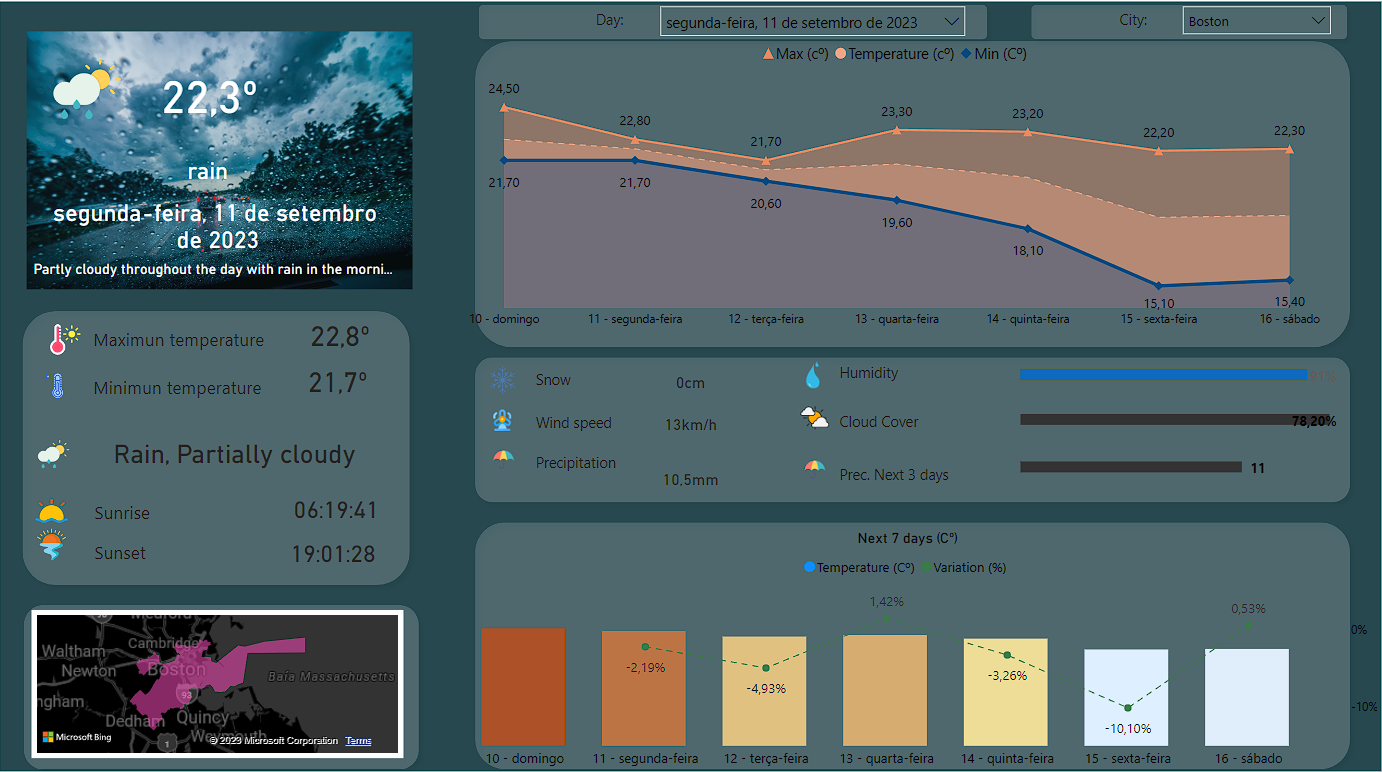

The dashboard page shown, as its layout file describes it:
{"tool":"powerbi","page":{"name":"Dashboard Weather","canvas":[1280,720],"ordinal":0},"visuals":[{"type":"cardVisual","fields":{"Data":["Max(Condicoes.conditions)"]},"box":[0,1.4,1280.3,718.7],"z":0},{"type":"cardVisual","fields":{"Data":["Max(Condicoes.conditions)"]},"box":[8.8,13,401,282.4],"z":1000},{"type":"shape","box":[16.7,280.8,373.9,269.7],"z":2000},{"type":"shape","box":[18.1,550.5,380.9,169.6],"z":3000},{"type":"shape","box":[432.3,475.4,821.5,244.7],"z":4000},{"type":"shape","box":[432.3,33.4,821.5,298.9],"z":5000},{"type":"shape","box":[432.3,323.9,821.5,151.5],"z":6000},{"type":"shape","box":[436.6,0,484.8,49.7],"z":7000},{"type":"shape","box":[943.6,0,308.3,49.4],"z":8000},{"type":"areaChart","title":"Next 7 days","fields":{"Category":["Dim_calendar.WeekDay/DayName"],"Y":["Sum(Temperatura.feelslikemax)","Sum(Temperatura.temp)","Sum(Temperatura.feelslikemin)"]},"box":[416.1,33.8,827.3,281],"z":9000},{"type":"slicer","fields":{"Values":["Dim_City.Cidade"]},"box":[1081.8,0,156.8,41],"z":10000},{"type":"card","fields":{"Values":["Max(Temperatura.Temp_)"]},"box":[129.6,43.3,136.9,92.9],"z":11000},{"type":"card","fields":{"Values":["Max(Temperatura.Maxima)"]},"box":[279.4,291.9,77.8,41.7],"z":12000},{"type":"card","fields":{"Values":["Min(Temperatura.Temp_min)"]},"box":[278,332.2,76.5,45.9],"z":13000},{"type":"card","fields":{"Values":["Max(Condicoes.conditions)"]},"box":[75.1,397.6,293.3,47.3],"z":14000},{"type":"barChart","title":"Huminade","fields":{"Category":["Condicoes.City"],"Y":["Medidas.Umidade"]},"box":[938.3,315.6,300.3,61.2],"z":15000},{"type":"barChart","fields":{"Category":["Condicoes.City"],"Y":["Medidas.CloudOver"]},"box":[938.3,354.5,300.3,65.3],"z":16000},{"type":"card","fields":{"Values":["Min(Dim_calendar.Date)"]},"box":[34.2,177.7,342.3,68.5],"z":17000},{"type":"card","fields":{"Values":["Max(Condicoes.icon)"]},"box":[74.6,143.3,243.3,35.4],"z":18000},{"type":"card","fields":{"Values":["Max(Condicoes.description)"]},"box":[29.3,232,342.3,42.8],"z":19000},{"type":"textbox","box":[85.6,299.1,177.3,37.4],"z":20000},{"type":"textbox","box":[86.2,344.7,176.5,33.4],"z":21000},{"type":"card","fields":{"Values":["Min(Condicoes.show)"]},"box":[601.4,342.3,77,25.7],"z":22000},{"type":"card","fields":{"Values":["Min(Condicoes.Wind_speed)"]},"box":[601.4,381.4,77,25.7],"z":23000},{"type":"card","fields":{"Values":["Min(Condicoes.Perciptacao)"]},"box":[601.4,431.5,77,25.7],"z":24000},{"type":"barChart","fields":{"Category":["Condicoes.City"],"Y":["Sum(Condicoes.precip)"]},"box":[938.3,398,300.3,65.1],"z":25000},{"type":"card","fields":{"Values":["Max(Condicoes.sunrise - hr)"]},"box":[253,444.8,123.7,55.6],"z":26000},{"type":"card","fields":{"Values":["Max(Condicoes.sunset - hr)"]},"box":[253,496.3,118.2,33.4],"z":27000},{"type":"lineStackedColumnComboChart","title":"Next 7 days (Cº)","fields":{"Category":["Dim_calendar.WeekDay/DayName"],"Y":["Medidas.Temperatura"],"Y2":["Medidas.Dif_day"]},"box":[398.5,491.4,881.4,228.6],"z":28000},{"type":"textbox","box":[492.9,338.7,108.8,30.3],"z":29000},{"type":"textbox","box":[492.9,378.7,108.8,30.3],"z":30000},{"type":"textbox","box":[492.9,415.8,108.8,38.6],"z":31000},{"type":"textbox","box":[771.9,332.9,115.8,31.4],"z":32000},{"type":"textbox","box":[771.9,377.5,111,27.7],"z":33000},{"type":"textbox","box":[771.9,425.7,144.7,38.6],"z":34000},{"type":"cardVisual","fields":{"Data":["Max(Condicoes.conditions)"]},"box":[28.9,33.2,118.4,102.5],"z":35000},{"type":"filledMap","fields":{"Category":["Dim_City.Cidade"],"Series":["Temperatura.temp"]},"box":[34.8,564.4,342,136.2],"z":36000},{"type":"textbox","box":[87.6,458.7,76.5,33.4],"z":37000},{"type":"textbox","box":[87.6,496.3,77.8,33.4],"z":38000},{"type":"cardVisual","fields":{"Data":["Max(Condicoes.conditions)"]},"box":[16.7,387.8,79.2,66.7],"z":39000},{"type":"slicer","fields":{"Values":["Dim_calendar.Date"]},"box":[601.8,0,300.3,42.2],"z":40000},{"type":"cardVisual","fields":{"Data":["Min(Tb_icones_fixos.Name)"]},"box":[28.9,283.7,78.5,62],"z":41000},{"type":"cardVisual","fields":{"Data":["Min(Tb_icones_fixos.Name)"]},"box":[17.9,326.3,78.5,62],"z":42000},{"type":"cardVisual","fields":{"Data":["Min(Tb_icones_fixos.Name)"]},"box":[16.5,440.6,78.5,62],"z":43000},{"type":"cardVisual","fields":{"Data":["Min(Tb_icones_fixos.Name)"]},"box":[16.5,472.3,78.5,62],"z":44000},{"type":"cardVisual","fields":{"Data":["Min(Tb_icones_fixos.Name)"]},"box":[432.4,323.6,73,48.2],"z":45000},{"type":"cardVisual","fields":{"Data":["Min(Tb_icones_fixos.Name)"]},"box":[432.4,360.8,73,48.2],"z":46000},{"type":"cardVisual","fields":{"Data":["Min(Tb_icones_fixos.Name)"]},"box":[433.7,396.6,73,48.2],"z":47000},{"type":"cardVisual","fields":{"Data":["Min(Tb_icones_fixos.Name)"]},"box":[720.1,318.1,73,55.1],"z":48000},{"type":"cardVisual","fields":{"Data":["Min(Tb_icones_fixos.Name)"]},"box":[720.1,358,73,55.1],"z":49000},{"type":"cardVisual","fields":{"Data":["Min(Tb_icones_fixos.Name)"]},"box":[720.1,404.8,73,48.2],"z":50000},{"type":"textbox","box":[1028.7,8.4,68.7,32.6],"z":51000},{"type":"textbox","box":[547.5,8.4,68.7,32.6],"z":52000}]}

Visuals, with their boxes in screenshot pixels (x1, y1, x2, y2), scaled from the page's 1280x720 canvas onto the 1382x772 screenshot:
cardVisual - Max(Condicoes.conditions): [x1=0, y1=2, x2=1381, y2=771]
cardVisual - Max(Condicoes.conditions): [x1=10, y1=14, x2=442, y2=317]
shape: [x1=18, y1=301, x2=422, y2=590]
shape: [x1=20, y1=590, x2=431, y2=771]
shape: [x1=467, y1=510, x2=1354, y2=771]
shape: [x1=467, y1=36, x2=1354, y2=356]
shape: [x1=467, y1=347, x2=1354, y2=510]
shape: [x1=471, y1=0, x2=995, y2=53]
shape: [x1=1019, y1=0, x2=1352, y2=53]
"Next 7 days" areaChart: [x1=449, y1=36, x2=1342, y2=338]
slicer - Dim_City.Cidade: [x1=1168, y1=0, x2=1337, y2=44]
card - Max(Temperatura.Temp_): [x1=140, y1=46, x2=288, y2=146]
card - Max(Temperatura.Maxima): [x1=302, y1=313, x2=386, y2=358]
card - Min(Temperatura.Temp_min): [x1=300, y1=356, x2=383, y2=405]
card - Max(Condicoes.conditions): [x1=81, y1=426, x2=398, y2=477]
"Huminade" barChart: [x1=1013, y1=338, x2=1337, y2=404]
barChart - Condicoes.City x Medidas.CloudOver: [x1=1013, y1=380, x2=1337, y2=450]
card - Min(Dim_calendar.Date): [x1=37, y1=191, x2=407, y2=264]
card - Max(Condicoes.icon): [x1=81, y1=154, x2=343, y2=192]
card - Max(Condicoes.description): [x1=32, y1=249, x2=401, y2=295]
textbox: [x1=92, y1=321, x2=284, y2=361]
textbox: [x1=93, y1=370, x2=284, y2=405]
card - Min(Condicoes.show): [x1=649, y1=367, x2=732, y2=395]
card - Min(Condicoes.Wind_speed): [x1=649, y1=409, x2=732, y2=437]
card - Min(Condicoes.Perciptacao): [x1=649, y1=463, x2=732, y2=490]
barChart - Condicoes.City x Sum(Condicoes.precip): [x1=1013, y1=427, x2=1337, y2=497]
card - Max(Condicoes.sunrise - hr): [x1=273, y1=477, x2=407, y2=537]
card - Max(Condicoes.sunset - hr): [x1=273, y1=532, x2=401, y2=568]
"Next 7 days (Cº)" lineStackedColumnComboChart: [x1=430, y1=527, x2=1381, y2=771]
textbox: [x1=532, y1=363, x2=650, y2=396]
textbox: [x1=532, y1=406, x2=650, y2=439]
textbox: [x1=532, y1=446, x2=650, y2=487]
textbox: [x1=833, y1=357, x2=958, y2=391]
textbox: [x1=833, y1=405, x2=953, y2=434]
textbox: [x1=833, y1=456, x2=990, y2=498]
cardVisual - Max(Condicoes.conditions): [x1=31, y1=36, x2=159, y2=146]
filledMap - Dim_City.Cidade x Temperatura.temp: [x1=38, y1=605, x2=407, y2=751]
textbox: [x1=95, y1=492, x2=177, y2=528]
textbox: [x1=95, y1=532, x2=179, y2=568]
cardVisual - Max(Condicoes.conditions): [x1=18, y1=416, x2=104, y2=487]
slicer - Dim_calendar.Date: [x1=650, y1=0, x2=974, y2=45]
cardVisual - Min(Tb_icones_fixos.Name): [x1=31, y1=304, x2=116, y2=371]
cardVisual - Min(Tb_icones_fixos.Name): [x1=19, y1=350, x2=104, y2=416]
cardVisual - Min(Tb_icones_fixos.Name): [x1=18, y1=472, x2=103, y2=539]
cardVisual - Min(Tb_icones_fixos.Name): [x1=18, y1=506, x2=103, y2=573]
cardVisual - Min(Tb_icones_fixos.Name): [x1=467, y1=347, x2=546, y2=399]
cardVisual - Min(Tb_icones_fixos.Name): [x1=467, y1=387, x2=546, y2=439]
cardVisual - Min(Tb_icones_fixos.Name): [x1=468, y1=425, x2=547, y2=477]
cardVisual - Min(Tb_icones_fixos.Name): [x1=777, y1=341, x2=856, y2=400]
cardVisual - Min(Tb_icones_fixos.Name): [x1=777, y1=384, x2=856, y2=443]
cardVisual - Min(Tb_icones_fixos.Name): [x1=777, y1=434, x2=856, y2=486]
textbox: [x1=1111, y1=9, x2=1185, y2=44]
textbox: [x1=591, y1=9, x2=665, y2=44]
